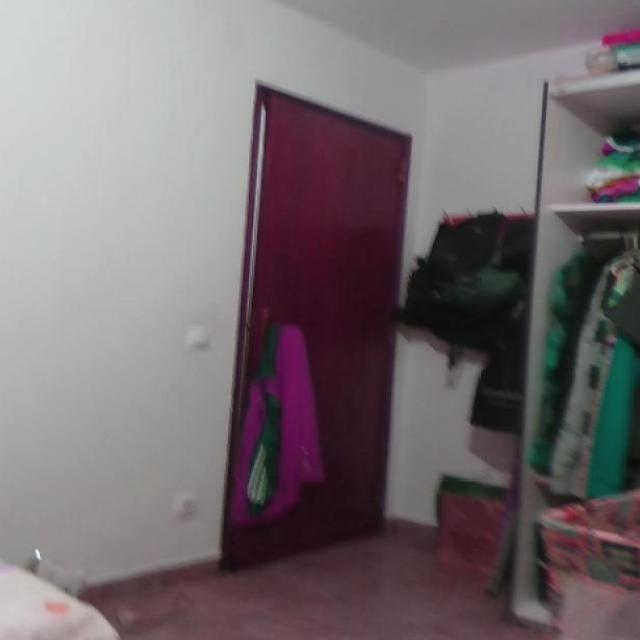door: (219, 81, 412, 571)
